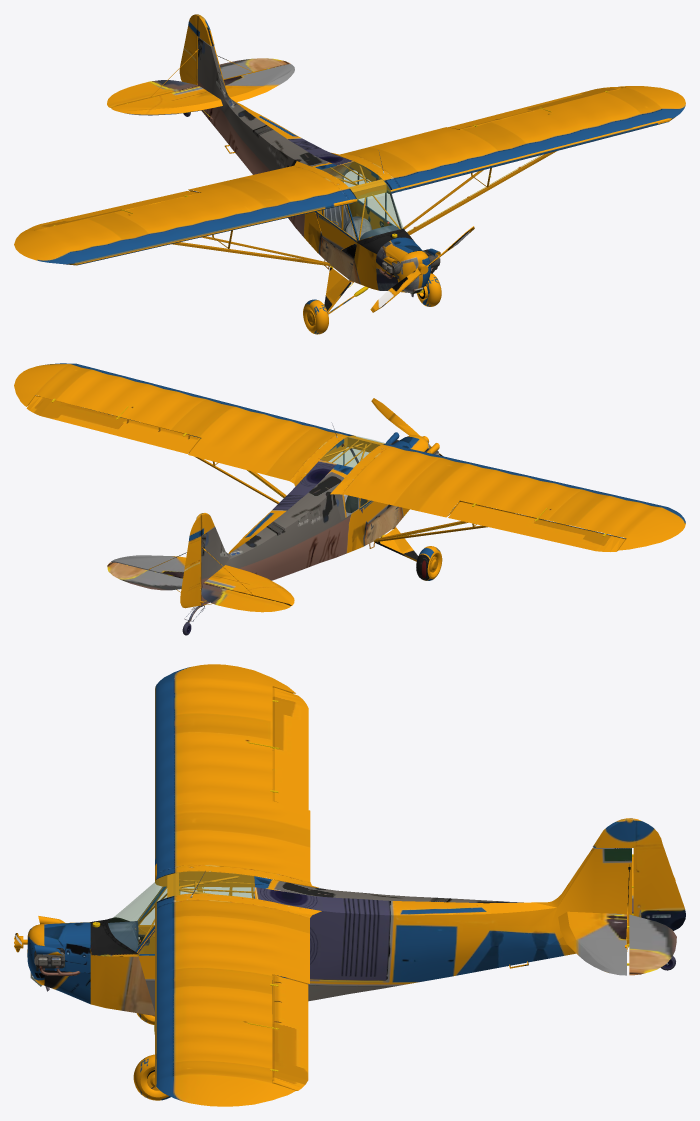
The model's file is blue.gltf.
3 renders of one model, top to bottom at view 1: azimuth 30°, elevation 25°; view 2: azimuth 150°, elevation 25°; view 3: azimuth 270°, elevation 25°, orthographic. The views are drawn at different scales.
Parts seen in each view (by area): view 1: Exterior, XLive_4, XLive_5, XLive_0, XLive_1; view 2: Exterior, XLive_0, XLive_1, XLive_4, XLive_5; view 3: Exterior, XLive_5, XLive_1, XLive_0, XLive_4.
Boxes of the visible parts, left/top/right/bottom form: Exterior: left=14, top=37, right=685, bottom=334; XLive_4: left=107, top=58, right=290, bottom=107; XLive_5: left=179, top=14, right=214, bottom=84; XLive_0: left=448, top=87, right=624, bottom=129; XLive_1: left=27, top=191, right=199, bottom=230; Exterior: left=14, top=363, right=685, bottom=621; XLive_0: left=26, top=395, right=200, bottom=453; XLive_1: left=448, top=502, right=625, bottom=551; XLive_4: left=107, top=562, right=290, bottom=612; XLive_5: left=180, top=513, right=214, bottom=608; Exterior: left=14, top=664, right=633, bottom=1106; XLive_5: left=593, top=818, right=685, bottom=930; XLive_1: left=272, top=687, right=308, bottom=809; XLive_0: left=272, top=975, right=308, bottom=1090; XLive_4: left=629, top=854, right=676, bottom=975.
Size of the model in its own units: 10.65 by 2.73 by 6.86.
73 materials, 61 textured.
